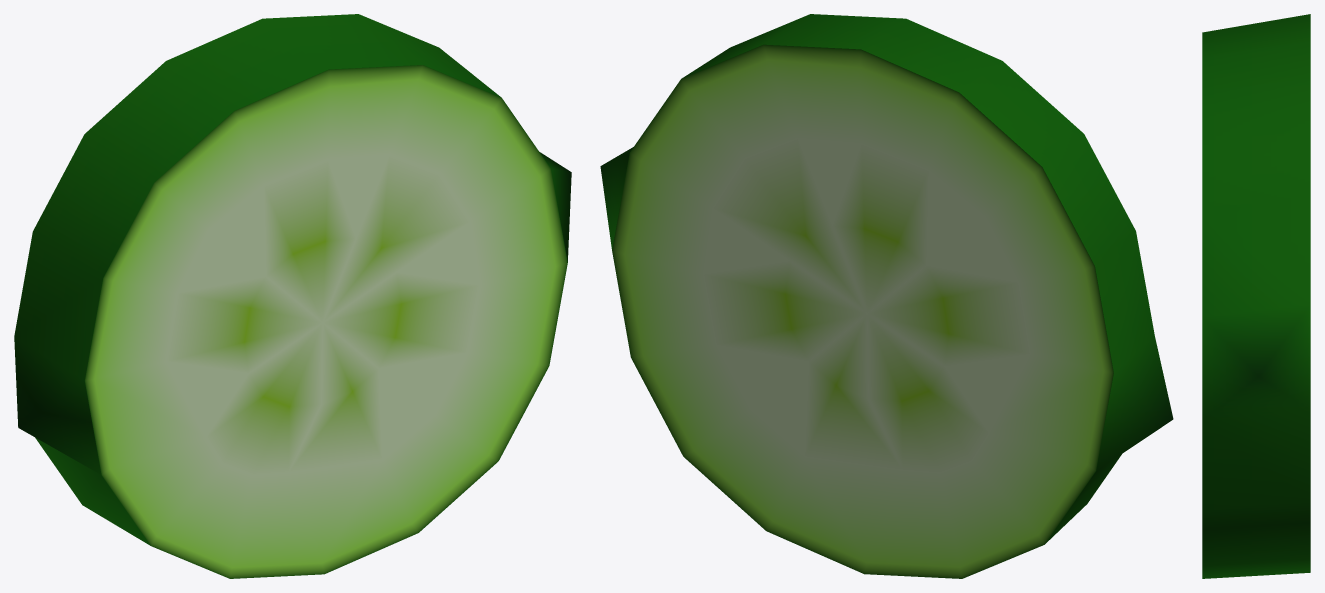
The model's file is Cucumber_Slice_06.fbx.
3 renders of one model, left to right at view 1: azimuth 30°, elevation 25°; view 2: azimuth 150°, elevation 25°; view 3: azimuth 270°, elevation 25°, orthographic. The views are drawn at different scales.
Visible parts, largest first — view 1: Cucumber_Slice_06; view 2: Cucumber_Slice_06; view 3: Cucumber_Slice_06.
Part boxes in pixels (left/top/right/bottom): Cucumber_Slice_06: left=14, top=14, right=571, bottom=578; Cucumber_Slice_06: left=600, top=14, right=1173, bottom=578; Cucumber_Slice_06: left=1202, top=14, right=1310, bottom=578.
Bounding box in the file's own units: 5.01 × 4.43 × 0.8597.
